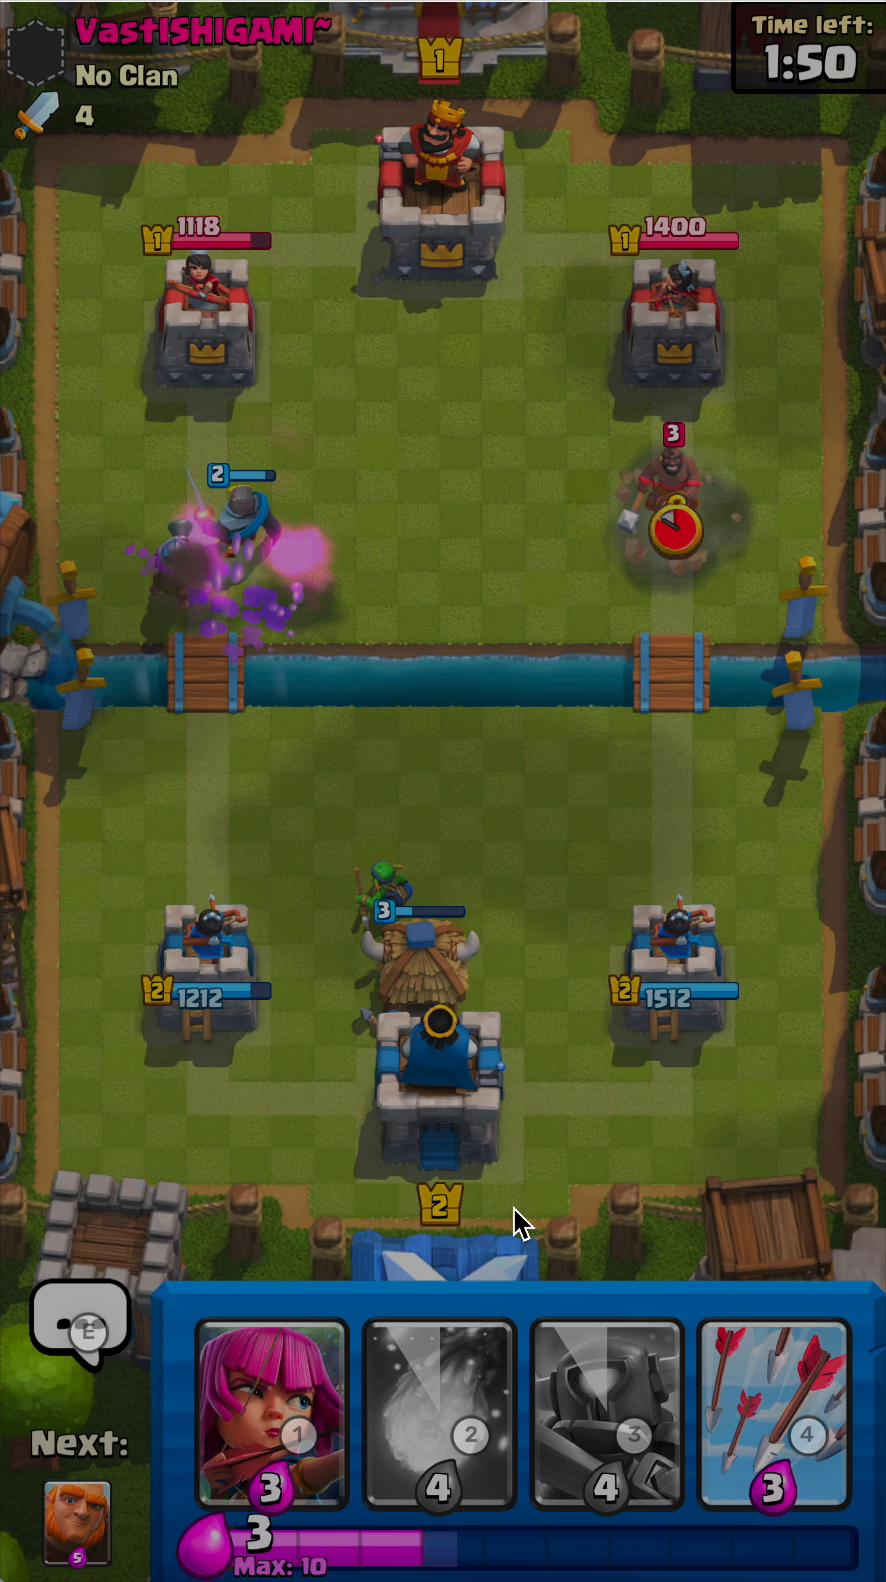chevalier: (178, 464, 288, 560)
mousquetaire: (139, 525, 221, 604)
